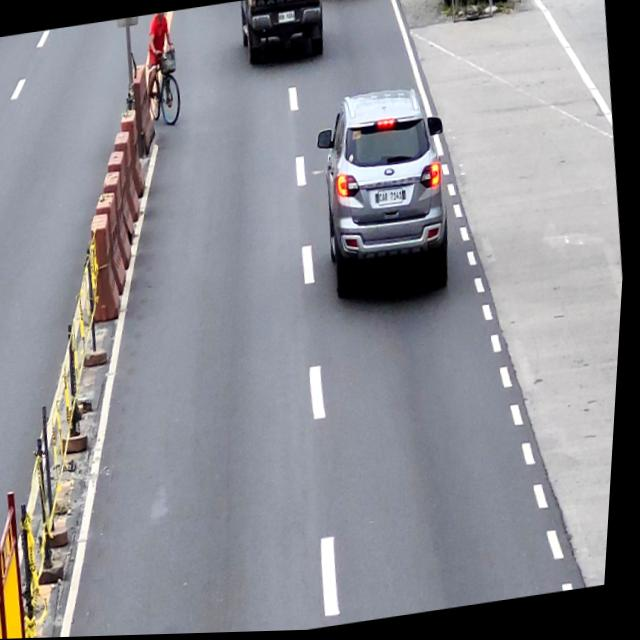Bicycle: (140, 44, 189, 133)
Car: (305, 81, 466, 308), (235, 0, 329, 68)
License-Plate: (379, 189, 407, 209), (276, 11, 297, 24)
